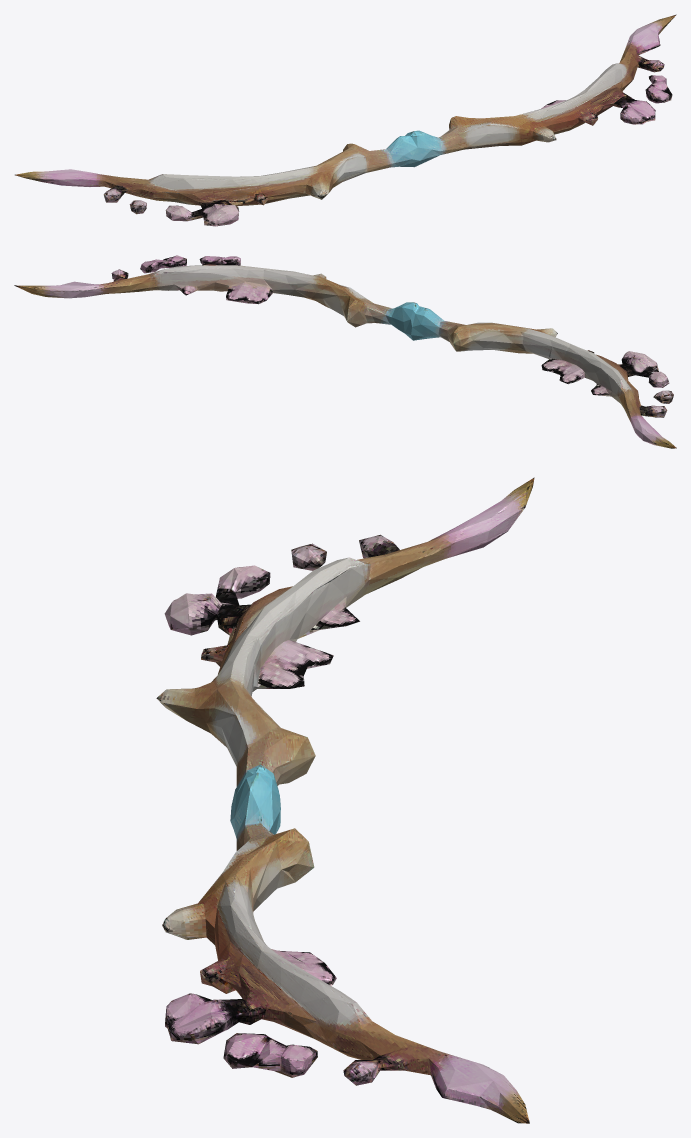
The model's file is sakura_bow.fbx.
3 renders of one model, top to bottom at view 1: azimuth 30°, elevation 25°; view 2: azimuth 150°, elevation 25°; view 3: azimuth 270°, elevation 25°, orthographic. The views are drawn at different scales.
Visible parts, largest first — view 1: geometry_0; view 2: geometry_0; view 3: geometry_0.
Boxes of the visible parts, left/top/right/bottom form: geometry_0: left=15, top=14, right=676, bottom=226; geometry_0: left=14, top=255, right=676, bottom=448; geometry_0: left=156, top=477, right=534, bottom=1123.
Size of the model in its own units: 0.996 by 0.0498 by 0.2464.
1 material, 1 textured.
